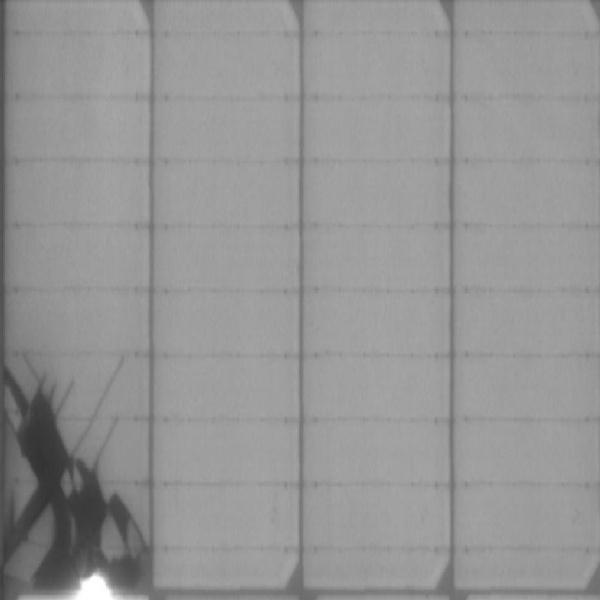broken: (1, 354, 144, 542), (1, 542, 69, 599)
hot_spot: (82, 571, 108, 599)
